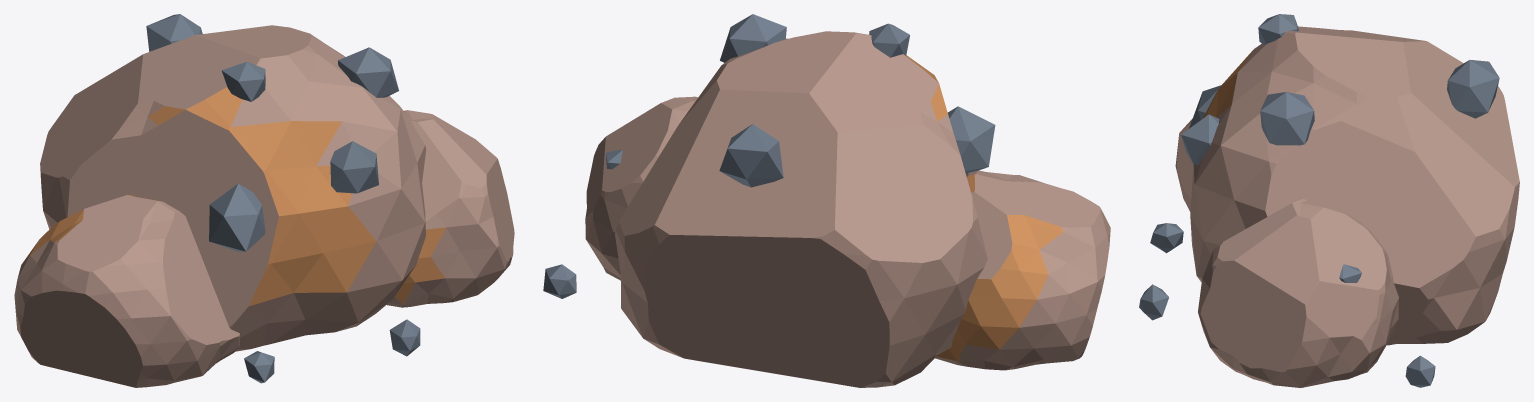
The model's file is IronStoneCluster.fbx.
3 views of the same model, side by side, from view 1: azimuth 30°, elevation 25°; view 2: azimuth 150°, elevation 25°; view 3: azimuth 270°, elevation 25° (orthographic). The views are drawn at different scales.
Parts seen in each view (by area): view 1: IronRock; view 2: IronRock; view 3: IronRock.
Part boxes in pixels (<box>): IronRock: <box>14,14,514,387</box>; IronRock: <box>543,14,1110,387</box>; IronRock: <box>1139,14,1519,387</box>.
Bounding box in the file's own units: 1.54 × 0.8195 × 1.08.
